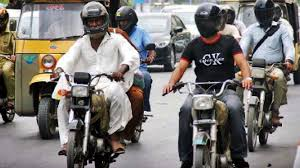helmet: (192, 3, 225, 39), (79, 1, 112, 36), (115, 6, 139, 32)
